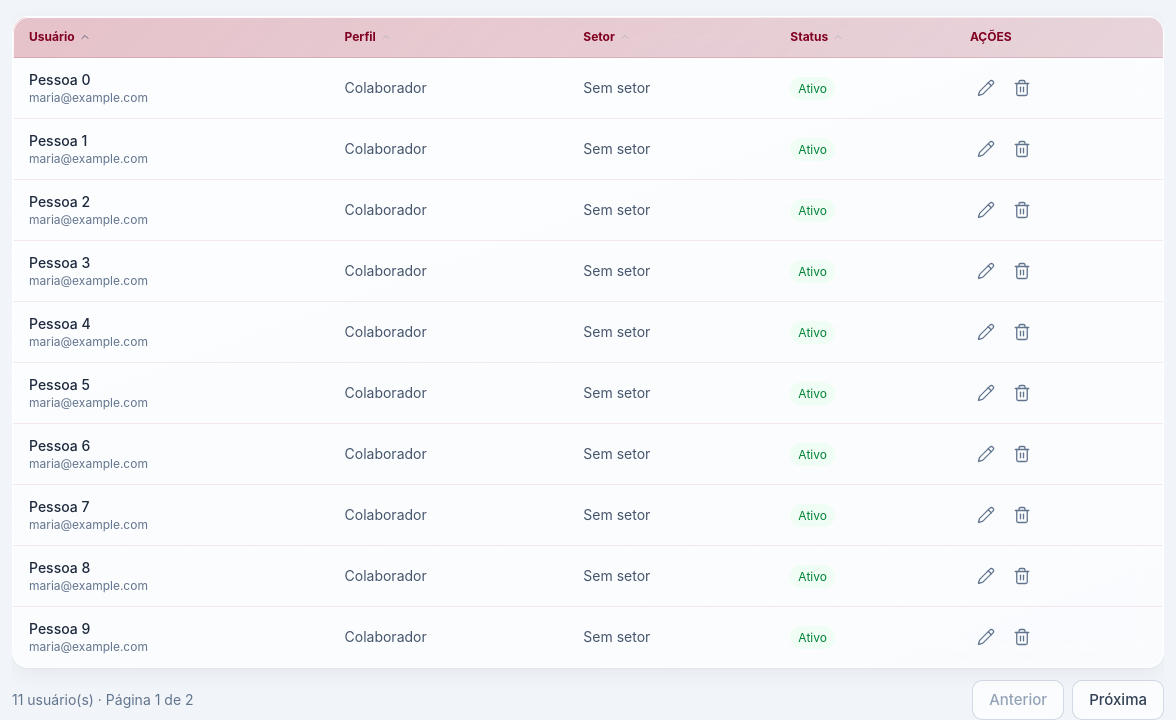
Test: USU-01/USU-02 — paginação e falhas de validação › pagina os resultados sem perder o filtro atual
(page scrolled)
Expected: the text "Pessoa 0" is shown, [29,71,90,88]
Expected: the text "Pessoa 10" is not shown
Click the button "Próxima" at (1118, 700), box [1072,680,1164,719]
(page scrolled)
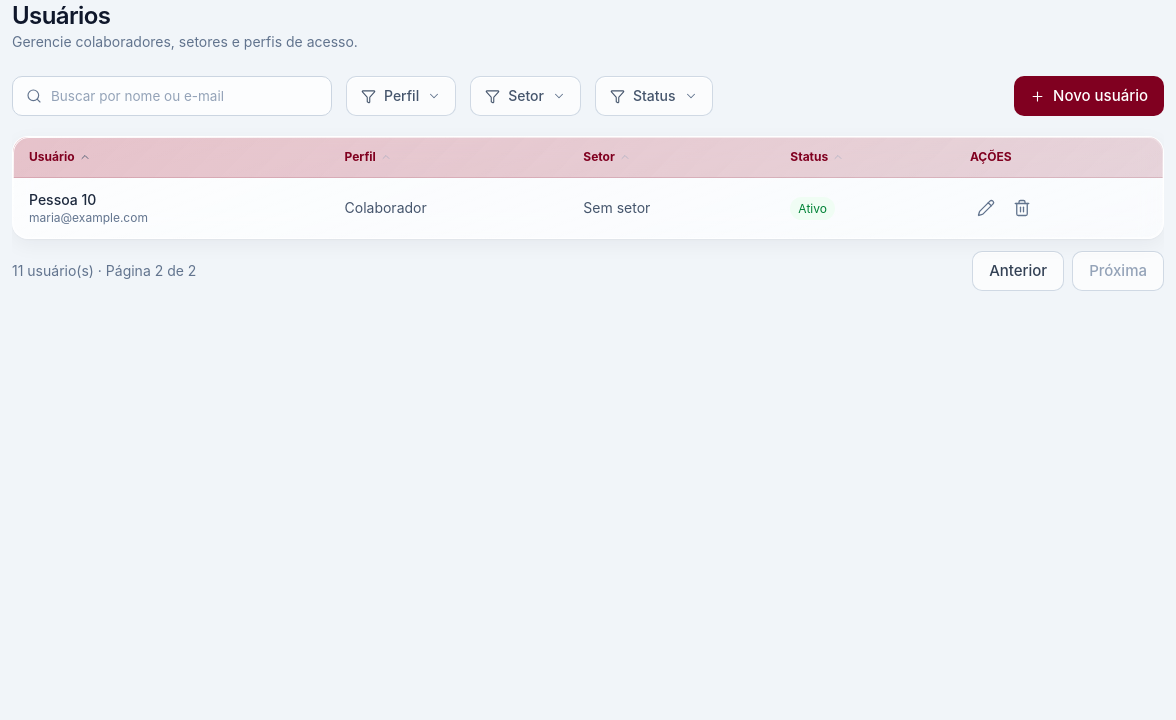
Expected: the text "Pessoa 10" is shown, [29,191,96,208]
Type "Pessoa 0" into the field labelled "Buscar por nome ou e-mail" at (172, 96), box [12,76,332,116]
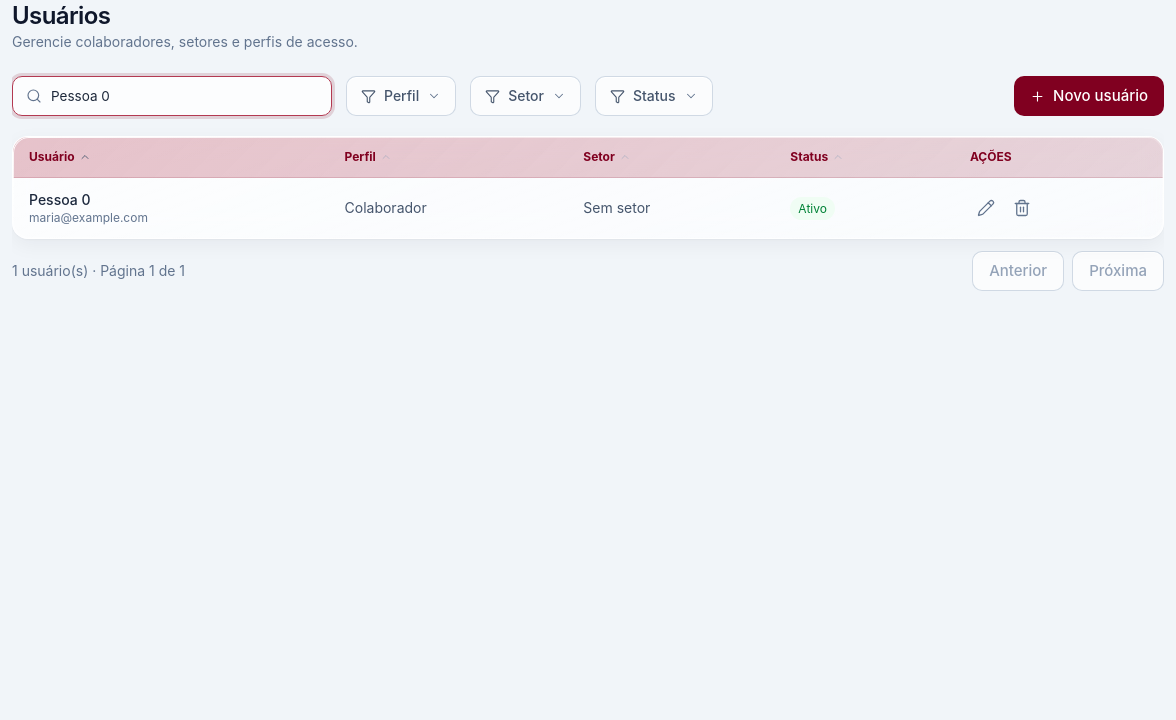
Expected: the text "Pessoa 0" is shown, [29,191,90,208]
Expected: the text "Pessoa 10" is gone
